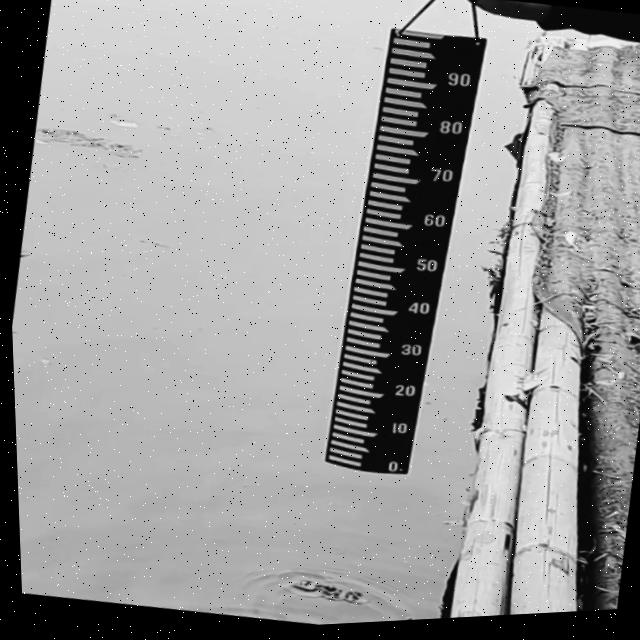water-meter: (290, 3, 515, 499)
